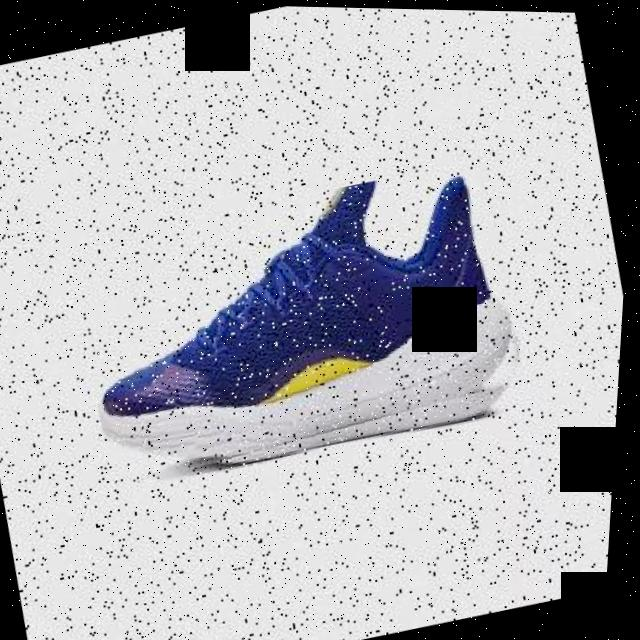shoe: (61, 148, 545, 496)
